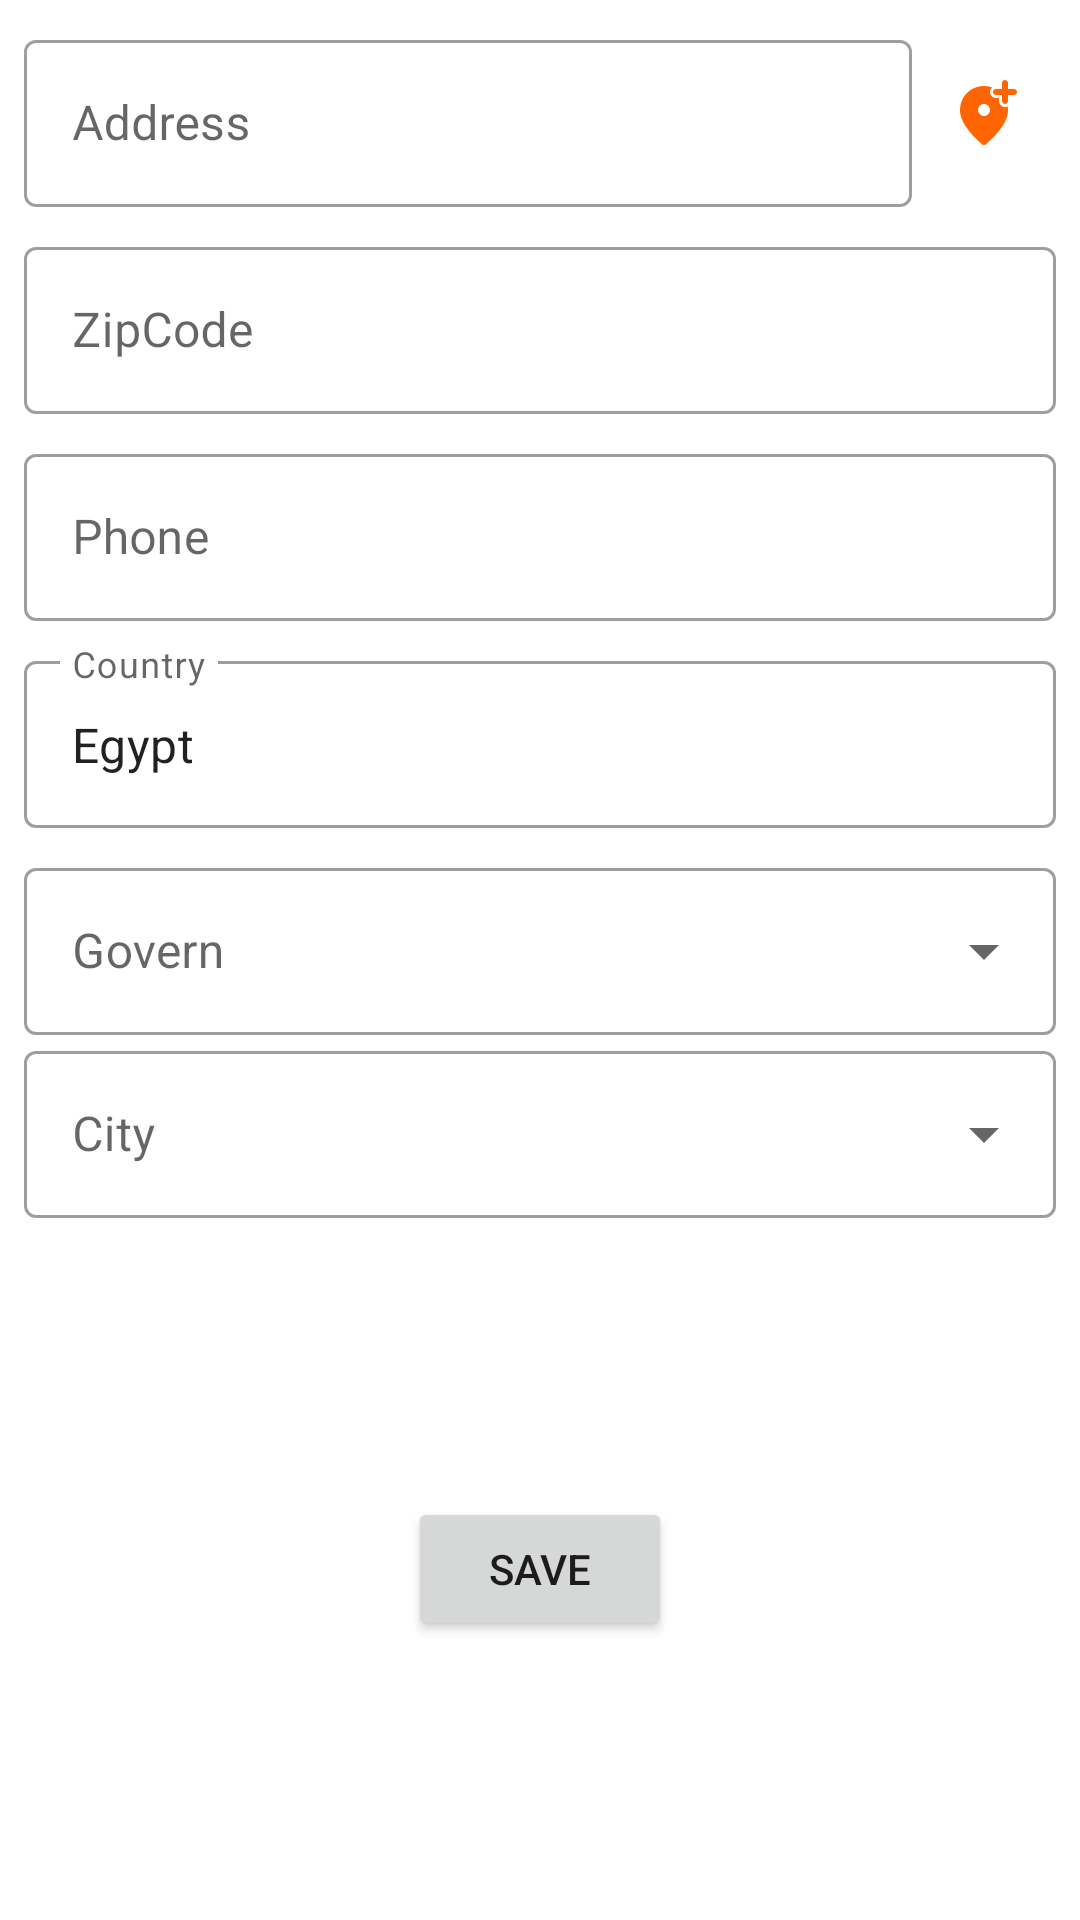

Screen size 1080 × 1920. Icon name, then its box in pixels as (x1, y1, x2, y2):
add location: (960, 80, 1017, 145)
